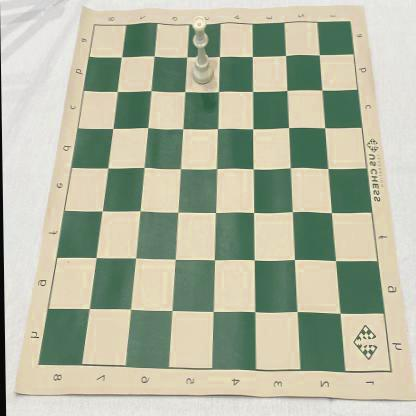white-queen: (190, 15, 214, 85)
